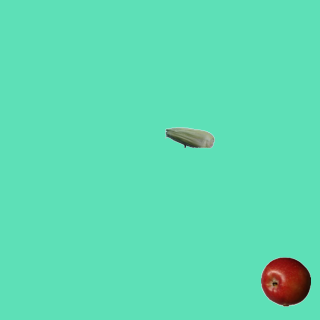Apple Braeburn: (260, 256, 310, 306)
Corn Husk: (164, 112, 214, 162)
